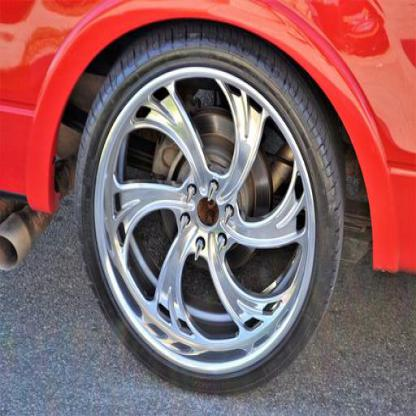Tire: (70, 18, 344, 396)
